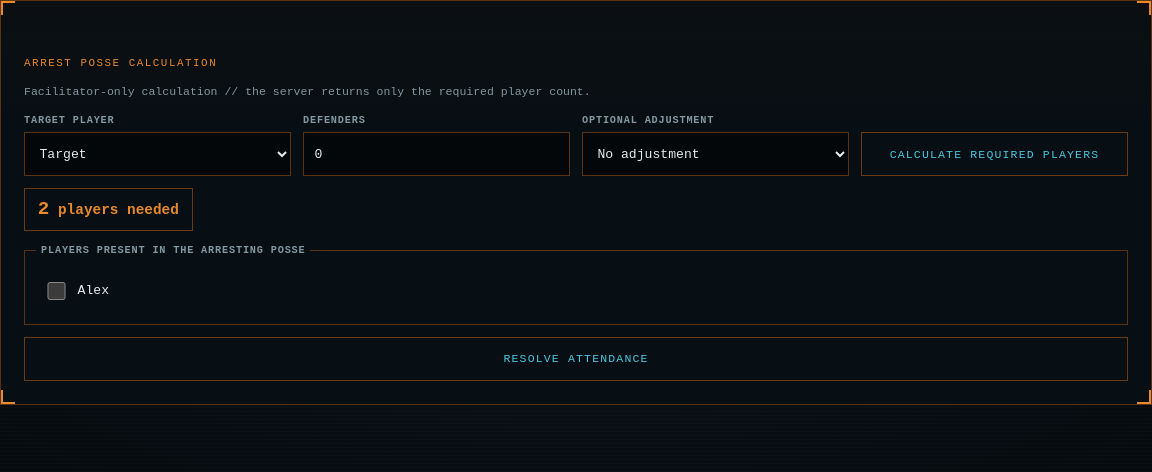
Scenario: shows a private not-arrested result without exposing suspicion
What coordinates should you click on to do the following:
click the checkbox labelled "Alex"
I would click on:
 (57, 291)
Its box is [47,282,66,300].
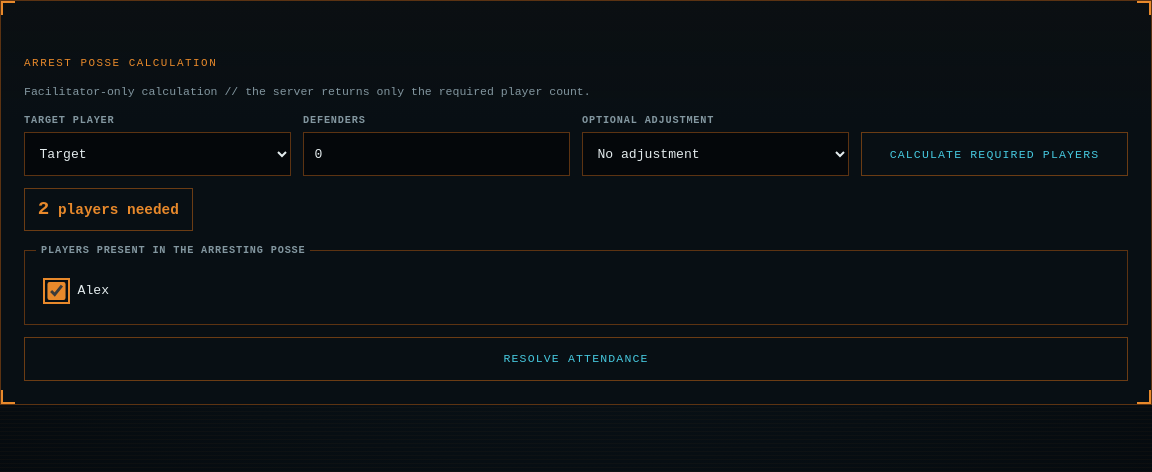
What coordinates should you click on to do the following:
click the button "Resolve attendance"
I would click on:
 (576, 359)
Its box is [24,337,1128,381].
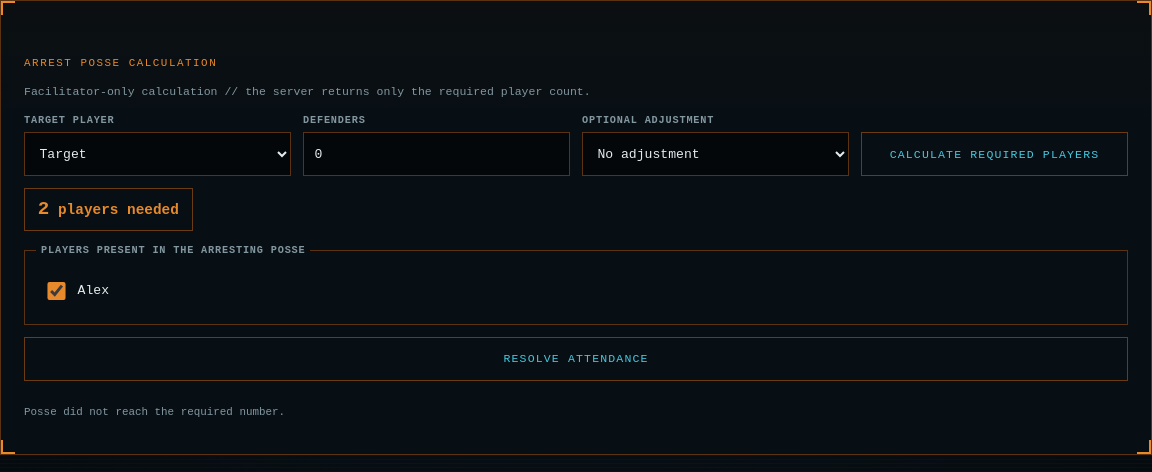
Now the text "Posse did not reach the required number." is shown, box [24,406,285,418]
